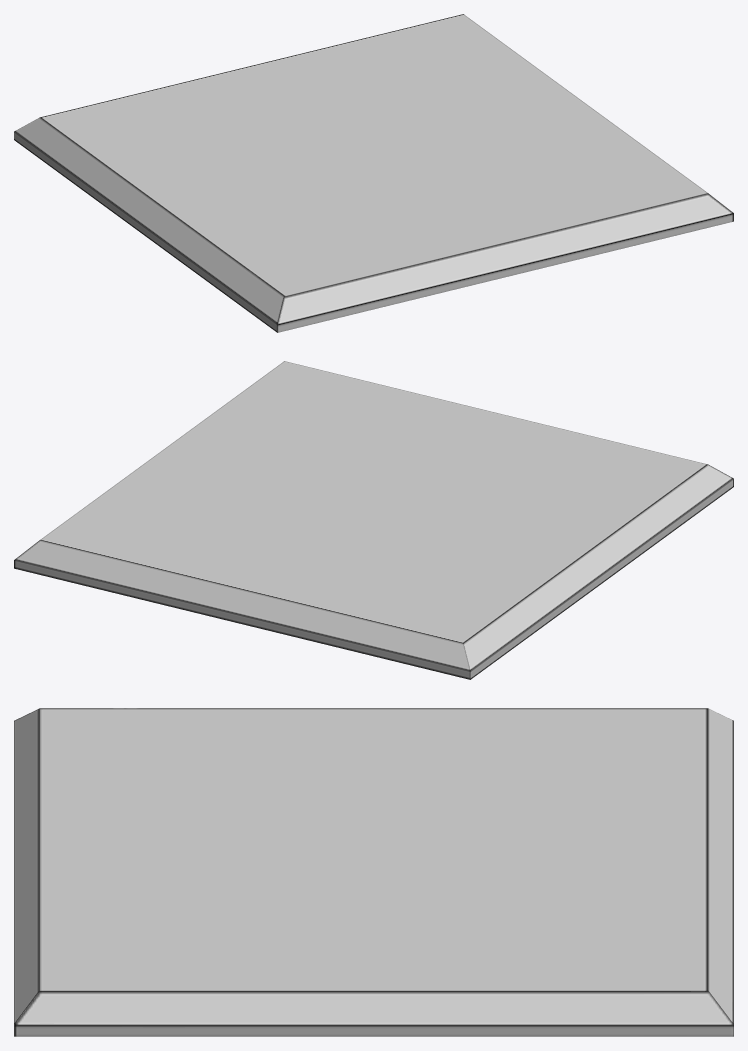
Rendered from Board.fbx.
3 views of the same model, one above another, from view 1: azimuth 30°, elevation 25°; view 2: azimuth 150°, elevation 25°; view 3: azimuth 270°, elevation 25° (orthographic). The views are drawn at different scales.
Parts seen in each view (by area): view 1: Cube_001; view 2: Cube_001; view 3: Cube_001.
Part boxes in pixels (x1,y1,x2,y2): Cube_001: [14, 14, 733, 332]; Cube_001: [14, 361, 733, 679]; Cube_001: [14, 708, 733, 1036].
Size of the model in its own units: 16.72 by 0.8902 by 16.72.
